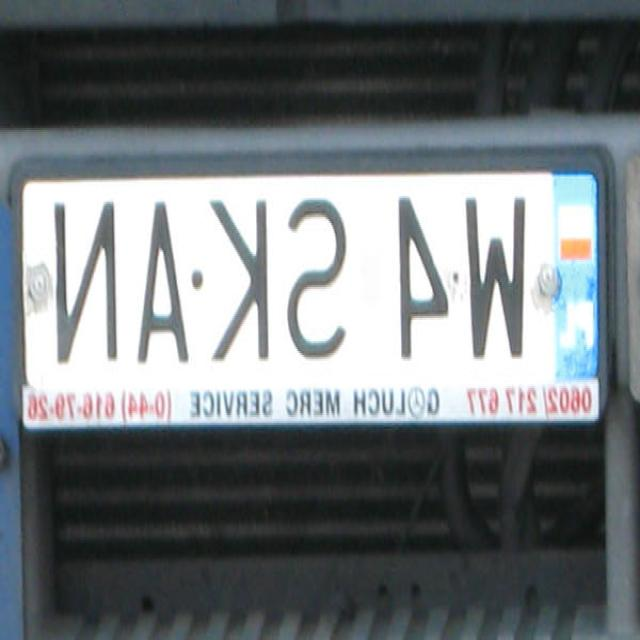pl_license_plate: (27, 173, 598, 380)
